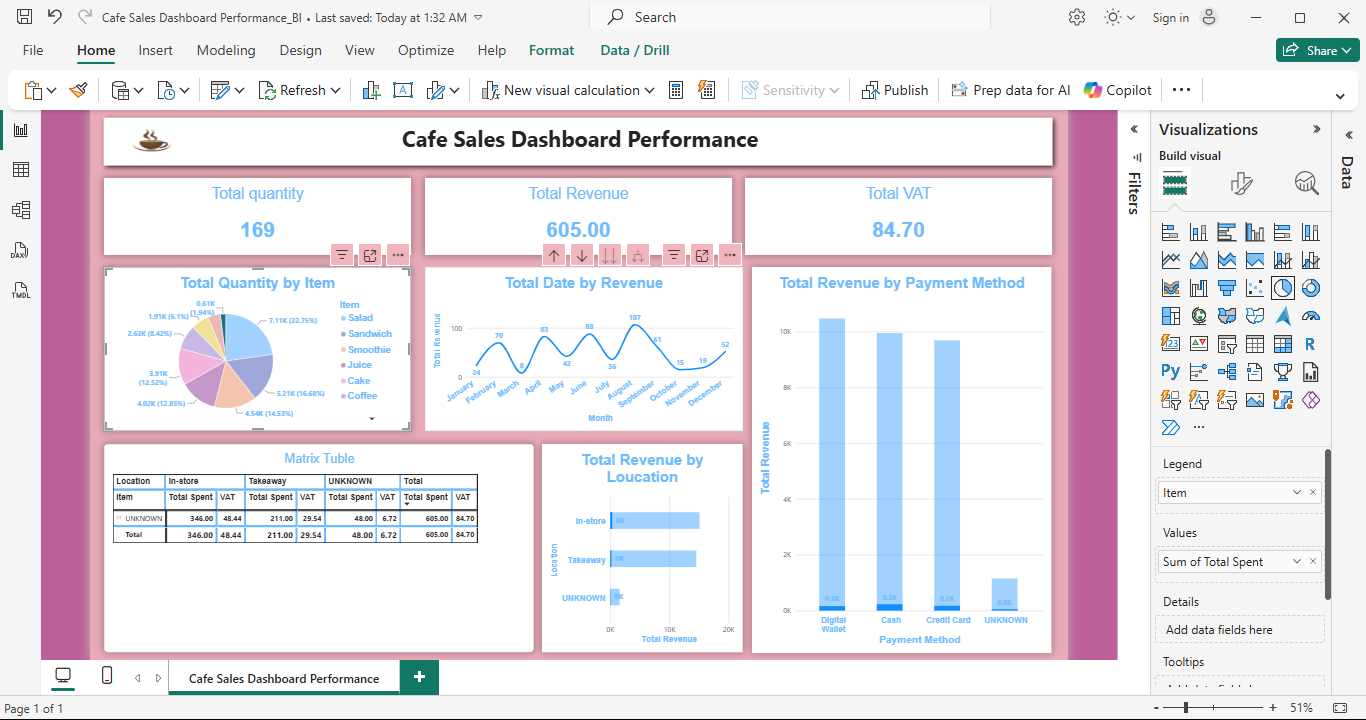

This screenshot's page, from the dashboard's own definition file:
{"tool":"powerbi","page":{"name":"Cafe Sales Dashboard Performance ","canvas":[1920,1080],"ordinal":0},"visuals":[{"type":"pieChart","title":"Total  Quantity by Item","fields":{"Category":["Cafe_sales_clean.Item"],"Y":["Sum(Cafe_sales_clean.Total Spent)"]},"box":[26.8,307.6,602.8,322.1],"z":0},{"type":"shape","box":[12.4,0,1893.2,123.9],"z":1000},{"type":"textbox","box":[46.3,15.4,1842.6,92.6],"z":2000},{"type":"card","title":"Total quantity","fields":{"Values":["Sum(Cafe_sales_clean.Quantity)"]},"box":[26.8,134.2,602.8,150.7],"z":3000},{"type":"card","title":"Total VAT","fields":{"Values":["Cafe_sales_clean.VAT"]},"box":[1286.2,134.2,602.8,150.7],"z":4000},{"type":"card","title":"Total Revenue","fields":{"Values":["Sum(Cafe_sales_clean.Total Spent)"]},"box":[658.6,134.2,602.8,150.7],"z":5000},{"type":"lineChart","title":"Total  Date by Revenue","fields":{"Category":["Cafe_sales_clean.Transaction Date.Variation.Date Hierarchy.Year","Cafe_sales_clean.Transaction Date.Variation.Date Hierarchy.Quarter","Cafe_sales_clean.Transaction Date.Variation.Date Hierarchy.Month"],"Y":["Sum(Cafe_sales_clean.Total Spent)"]},"box":[658.6,307.6,623.5,322.1],"z":6000},{"type":"pivotTable","title":"Matrix Tuble","fields":{"Columns":["Cafe_sales_clean.Location"],"Rows":["Cafe_sales_clean.Item","Cafe_sales_clean.Payment Method"],"Values":["Sum(Cafe_sales_clean.Total Spent)","Cafe_sales_clean.VAT"]},"box":[26.8,656.5,844.4,408.8],"z":7000},{"type":"columnChart","title":"Total Revenue by Payment Method","fields":{"Category":["Cafe_sales_clean.Payment Method"],"Y":["Sum(Cafe_sales_clean.Total Spent)"]},"box":[1300.6,307.6,588.4,757.7],"z":8000},{"type":"barChart","title":"Total Revenue by  Loucation","fields":{"Category":["Cafe_sales_clean.Location"],"Y":["Sum(Cafe_sales_clean.Total Spent)"]},"box":[887.7,656.5,394.3,408.8],"z":8001},{"type":"image","box":[46.3,15.4,147.7,90.4],"z":8002}]}

Visuals, with their boxes on the page's 1920x1080 design canvas (x1, y1, x2, y2). These are canvas units, not pixel positions in the 1366x720 screenshot, which may show the page scaled, cropped or inside an application window:
"Total  Quantity by Item" pieChart: select_region(27, 308, 630, 630)
shape: select_region(12, 0, 1906, 124)
textbox: select_region(46, 15, 1889, 108)
"Total quantity" card: select_region(27, 134, 630, 285)
"Total VAT" card: select_region(1286, 134, 1889, 285)
"Total Revenue" card: select_region(659, 134, 1261, 285)
"Total  Date by Revenue" lineChart: select_region(659, 308, 1282, 630)
"Matrix Tuble" pivotTable: select_region(27, 656, 871, 1065)
"Total Revenue by Payment Method" columnChart: select_region(1301, 308, 1889, 1065)
"Total Revenue by  Loucation" barChart: select_region(888, 656, 1282, 1065)
image: select_region(46, 15, 194, 106)
